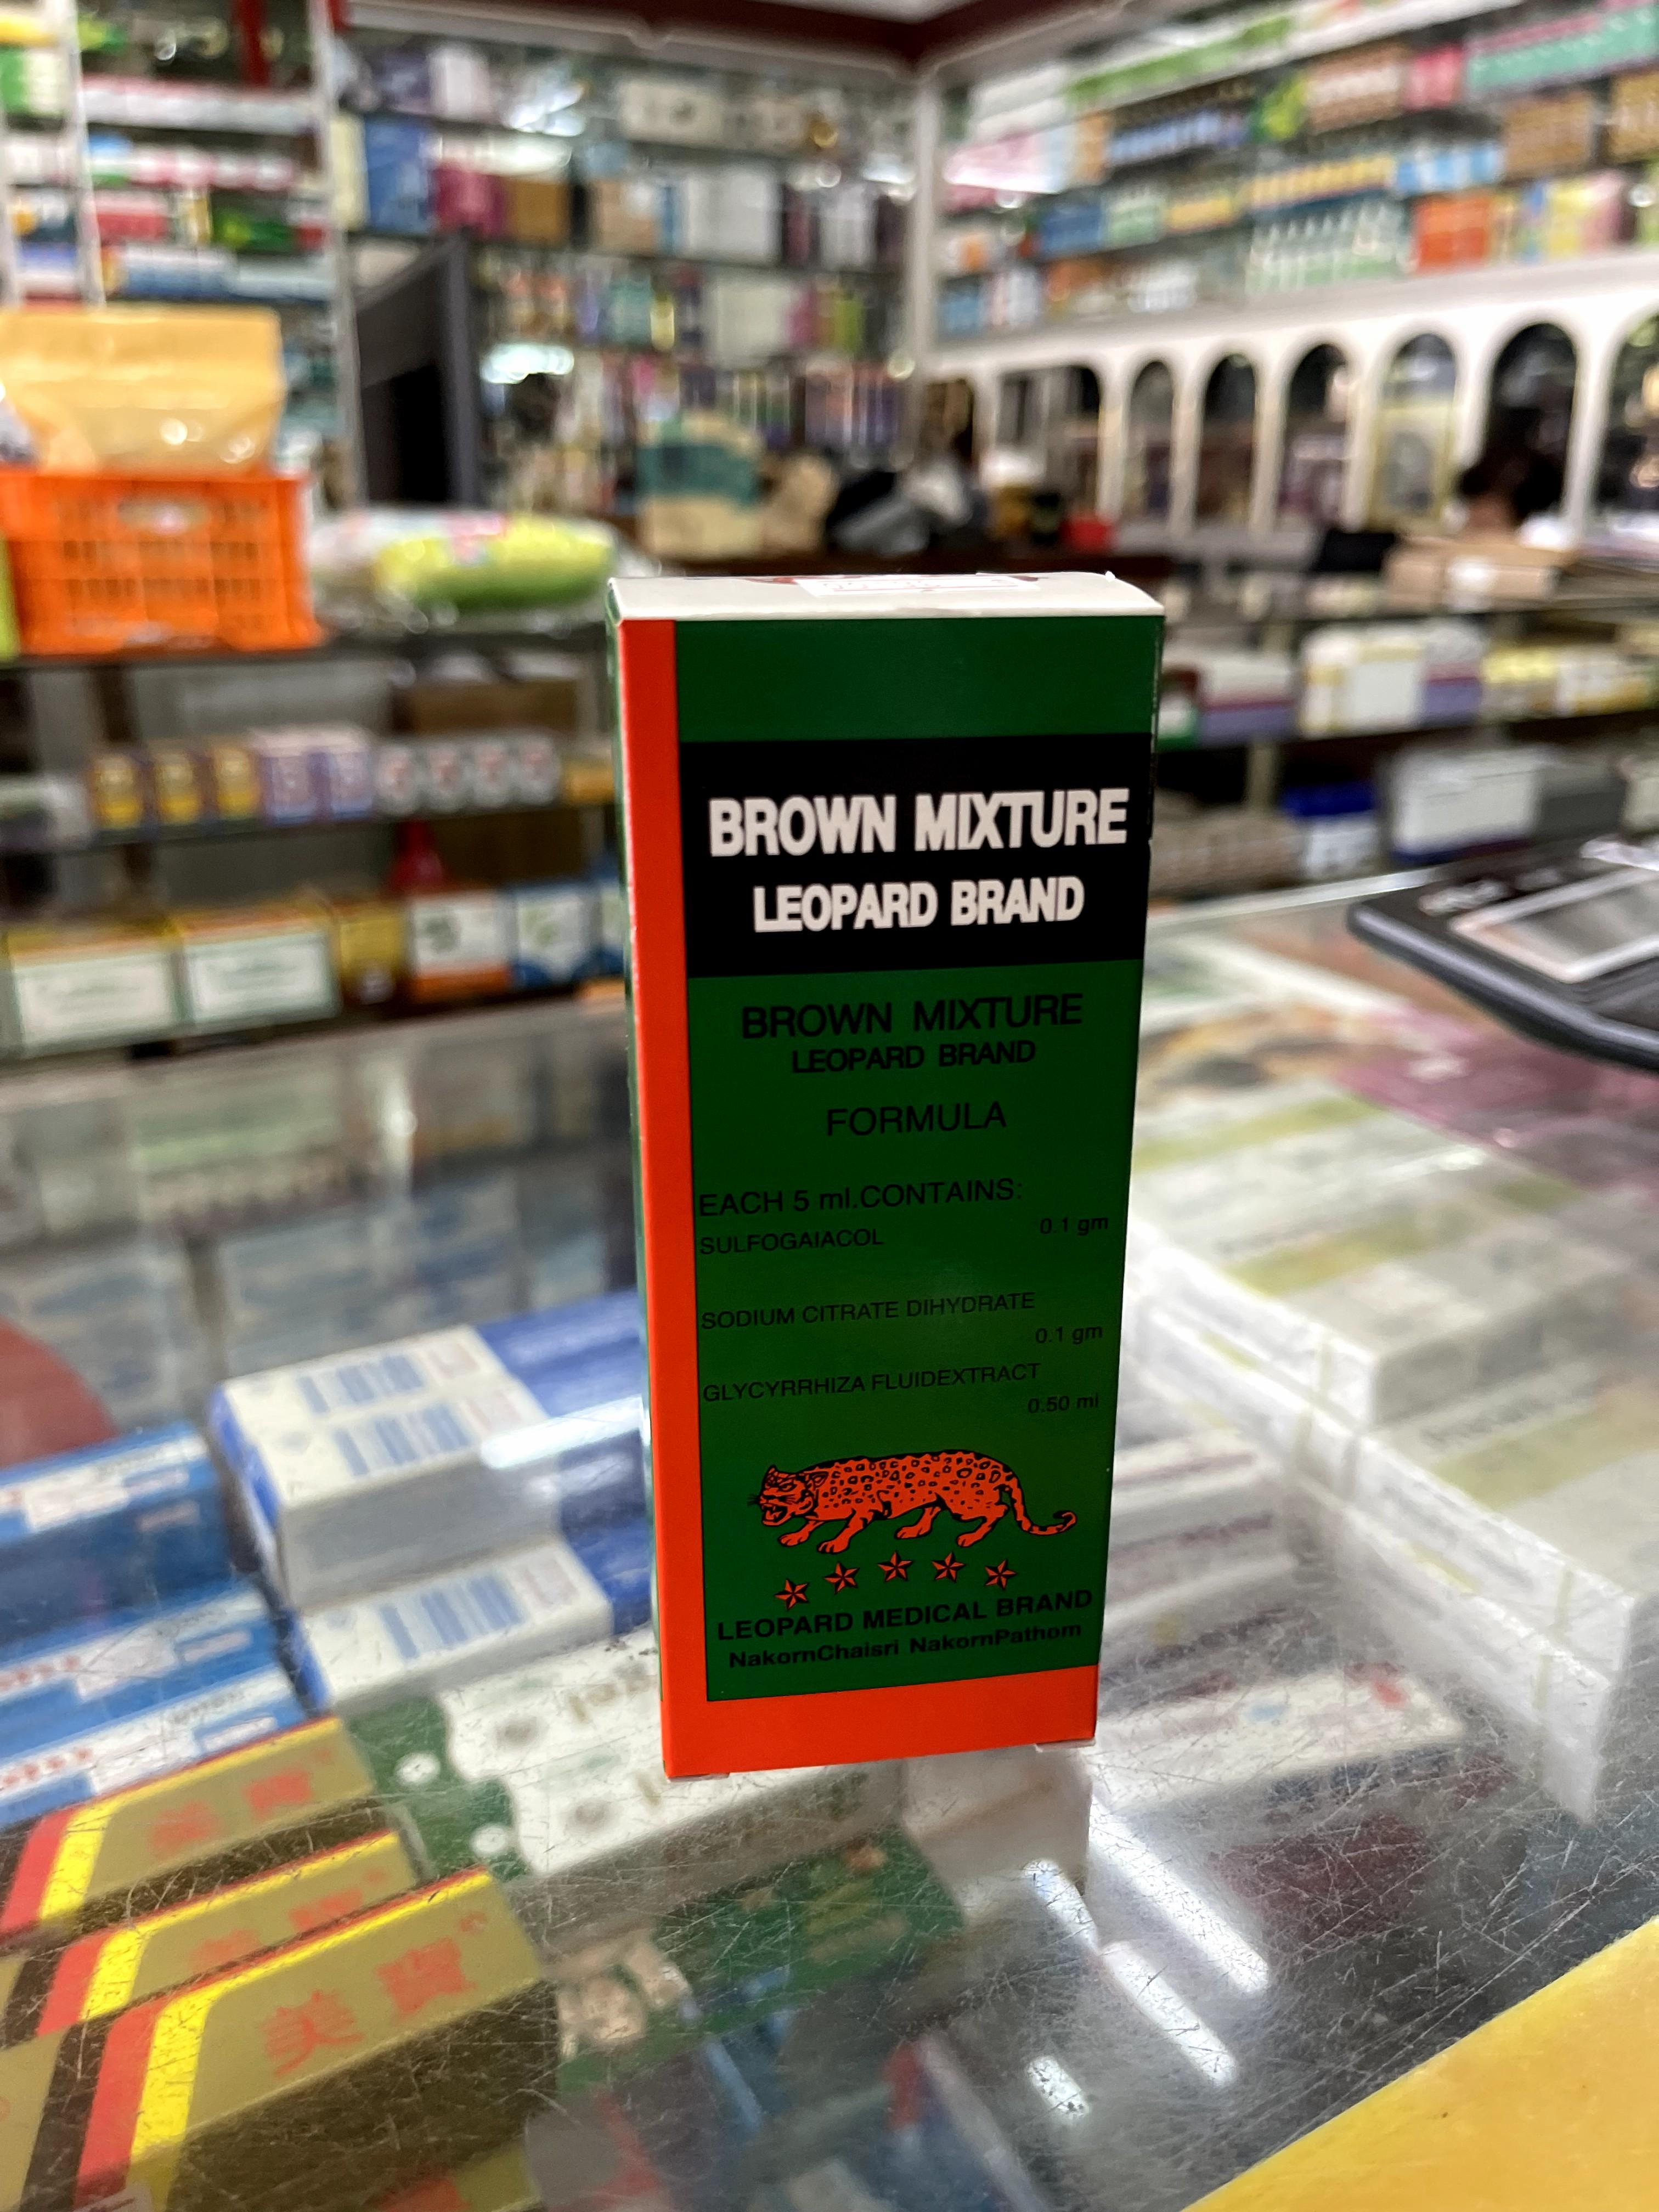Black-Tiger_Big: (608, 573, 1157, 1775)
